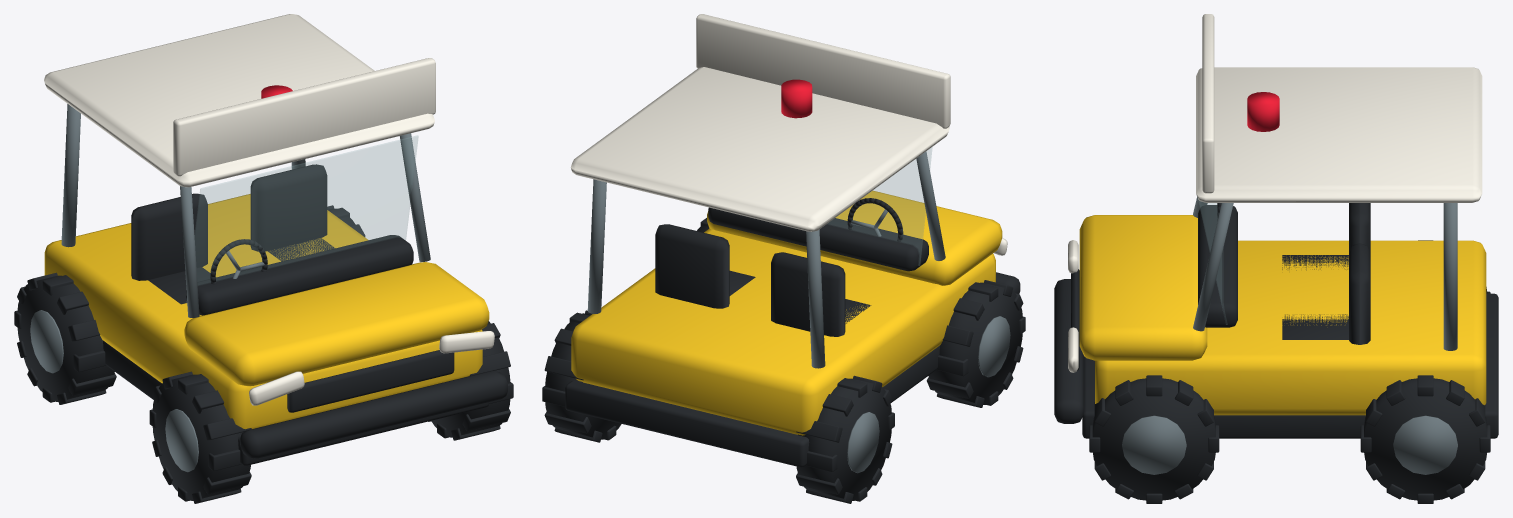
The model's file is ambulance.glb.
The picture shows the model from 3 angles, left to right: view 1: azimuth 30°, elevation 25°; view 2: azimuth 150°, elevation 25°; view 3: azimuth 270°, elevation 25°; orthographic projection. The views are drawn at different scales.
Visible parts, largest first — view 1: Amarillo ambulancia Mesh, Marfil Mesh, Goma Mesh, Parabrisas, Goma Mesh.002, Goma Mesh.001, Metal Mesh, Goma Mesh.004, Llanta, Llanta.001, Goma Mesh.005; view 2: Marfil Mesh, Amarillo ambulancia Mesh, Goma Mesh, Goma Mesh.001, Goma Mesh.002, Metal Mesh, Parabrisas, Goma Mesh.003, Llanta.001, Llanta, Baliza, Goma Mesh.005; view 3: Amarillo ambulancia Mesh, Marfil Mesh, Goma Mesh, Goma Mesh.004, Goma Mesh.003, Metal Mesh, Llanta.003, Llanta.002, Baliza, Parabrisas.
Boxes of the visible parts, x1=… form: Amarillo ambulancia Mesh: x1=44, y1=194, x2=489, y2=429; Marfil Mesh: x1=44, y1=14, x2=494, y2=405; Goma Mesh: x1=103, y1=164, x2=507, y2=465; Parabrisas: x1=186, y1=135, x2=418, y2=303; Goma Mesh.002: x1=149, y1=371, x2=251, y2=503; Goma Mesh.001: x1=14, y1=272, x2=116, y2=404; Metal Mesh: x1=61, y1=104, x2=430, y2=317; Goma Mesh.004: x1=428, y1=321, x2=513, y2=440; Llanta: x1=30, y1=310, x2=63, y2=373; Llanta.001: x1=165, y1=409, x2=198, y2=472; Goma Mesh.005: x1=210, y1=239, x2=267, y2=284; Marfil Mesh: x1=570, y1=14, x2=1007, y2=255; Amarillo ambulancia Mesh: x1=571, y1=190, x2=1002, y2=435; Goma Mesh: x1=565, y1=207, x2=1020, y2=467; Goma Mesh.001: x1=796, y1=375, x2=894, y2=503; Goma Mesh.002: x1=926, y1=280, x2=1025, y2=407; Metal Mesh: x1=587, y1=151, x2=945, y2=368; Parabrisas: x1=828, y1=147, x2=932, y2=265; Goma Mesh.003: x1=542, y1=310, x2=621, y2=442; Llanta.001: x1=978, y1=316, x2=1010, y2=377; Llanta: x1=847, y1=412, x2=879, y2=473; Baliza: x1=781, y1=79, x2=812, y2=118; Goma Mesh.005: x1=847, y1=198, x2=903, y2=241; Amarillo ambulancia Mesh: x1=1079, y1=215, x2=1486, y2=415; Marfil Mesh: x1=1068, y1=14, x2=1482, y2=372; Goma Mesh: x1=1054, y1=203, x2=1498, y2=438; Goma Mesh.004: x1=1089, y1=375, x2=1219, y2=503; Goma Mesh.003: x1=1360, y1=375, x2=1490, y2=503; Metal Mesh: x1=1193, y1=197, x2=1457, y2=350; Llanta.003: x1=1122, y1=415, x2=1186, y2=474; Llanta.002: x1=1393, y1=415, x2=1457, y2=474; Baliza: x1=1247, y1=92, x2=1279, y2=131; Parabrisas: x1=1198, y1=199, x2=1227, y2=324.
Bounding box in the file's own units: 3.22 × 3.62 × 4.11.
